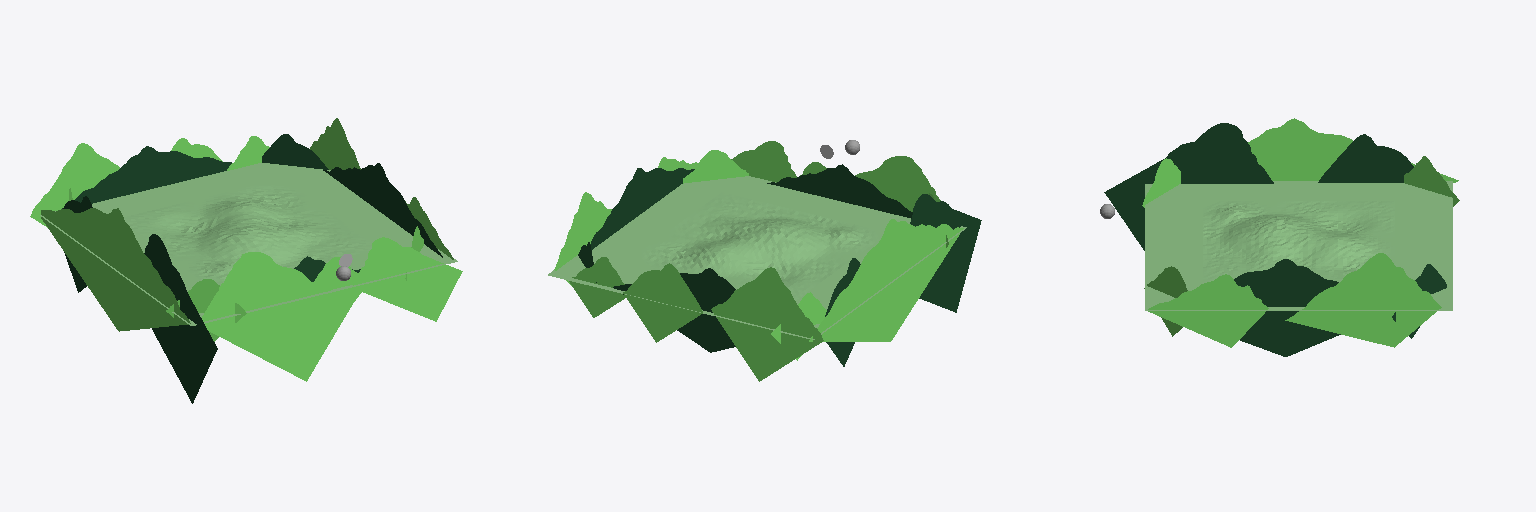
File: planeroller527.obj
The picture shows the model from 3 angles: view 1: azimuth 30°, elevation 25°; view 2: azimuth 150°, elevation 25°; view 3: azimuth 270°, elevation 25°; orthographic projection.
Parts seen in each view (by area): view 1: Ground_m_02_1_Scene.003, Plane.002_Plane.003, Plane.008_Plane.009, Plane.009_Plane.010, Plane.001_Plane.002, Plane.014_Plane.015, Plane.013_Plane.014, Plane.011_Plane.012, Plane.006_Plane.007, Plane.004_Plane.005, Plane.018_Plane.019, Plane.016_Plane.017 (+5 smaller); view 2: Ground_m_02_1_Scene.003, Plane.009_Plane.010, Plane.008_Plane.009, Plane.006_Plane.007, Plane.014_Plane.015, Plane.007_Plane.008, Plane.010_Plane.011, Plane.013_Plane.014, Plane.011_Plane.012, Plane.002_Plane.003, Plane.005_Plane.006, Plane.004_Plane.005 (+4 smaller); view 3: Plane.009_Plane.010, Ground_m_02_1_Scene.003, Plane.004_Plane.005, Plane.014_Plane.015, Plane.011_Plane.012, Plane.003_Plane.004, Plane.008_Plane.009, Plane.012_Plane.013, Plane.017_Plane.018, Plane.015_Plane.016, Plane.016_Plane.017, Plane.018_Plane.019.
Part boxes in pixels (left/top/right/bottom): Ground_m_02_1_Scene.003: left=124, top=178, right=371, bottom=285; Plane.002_Plane.003: left=202, top=252, right=353, bottom=381; Plane.008_Plane.009: left=41, top=208, right=190, bottom=331; Plane.009_Plane.010: left=40, top=163, right=457, bottom=325; Plane.001_Plane.002: left=352, top=237, right=462, bottom=321; Plane.014_Plane.015: left=144, top=234, right=217, bottom=403; Plane.013_Plane.014: left=62, top=146, right=231, bottom=208; Plane.011_Plane.012: left=323, top=163, right=442, bottom=257; Plane.006_Plane.007: left=30, top=143, right=119, bottom=227; Plane.004_Plane.005: left=310, top=118, right=360, bottom=169; Plane.018_Plane.019: left=262, top=134, right=328, bottom=169; Plane.016_Plane.017: left=166, top=279, right=246, bottom=341; Ground_m_02_1_Scene.003: left=626, top=192, right=883, bottom=300; Plane.009_Plane.010: left=548, top=176, right=966, bottom=339; Plane.008_Plane.009: left=809, top=219, right=963, bottom=341; Plane.006_Plane.007: left=711, top=267, right=823, bottom=381; Plane.014_Plane.015: left=910, top=194, right=981, bottom=312; Plane.007_Plane.008: left=623, top=263, right=702, bottom=342; Plane.010_Plane.011: left=767, top=164, right=912, bottom=218; Plane.013_Plane.014: left=613, top=268, right=735, bottom=352; Plane.011_Plane.012: left=590, top=168, right=694, bottom=249; Plane.002_Plane.003: left=855, top=156, right=940, bottom=211; Plane.005_Plane.006: left=569, top=257, right=625, bottom=317; Plane.004_Plane.005: left=554, top=192, right=611, bottom=285; Plane.009_Plane.010: left=1145, top=181, right=1452, bottom=310; Ground_m_02_1_Scene.003: left=1203, top=201, right=1394, bottom=282; Plane.004_Plane.005: left=1285, top=253, right=1441, bottom=347; Plane.014_Plane.015: left=1104, top=123, right=1273, bottom=250; Plane.011_Plane.012: left=1234, top=259, right=1340, bottom=356; Plane.003_Plane.004: left=1148, top=274, right=1268, bottom=347; Plane.008_Plane.009: left=1248, top=118, right=1458, bottom=182; Plane.012_Plane.013: left=1318, top=134, right=1413, bottom=182; Plane.017_Plane.018: left=1404, top=156, right=1459, bottom=206; Plane.015_Plane.016: left=1144, top=266, right=1187, bottom=336; Plane.016_Plane.017: left=1142, top=158, right=1180, bottom=207; Plane.018_Plane.019: left=1392, top=264, right=1446, bottom=338.
Bounding box in the file's own units: 169 × 85.18 × 187.